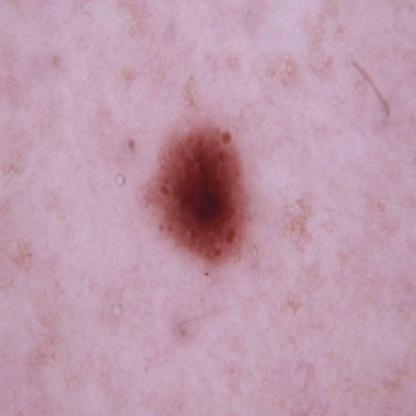benign: (143, 124, 258, 264)
